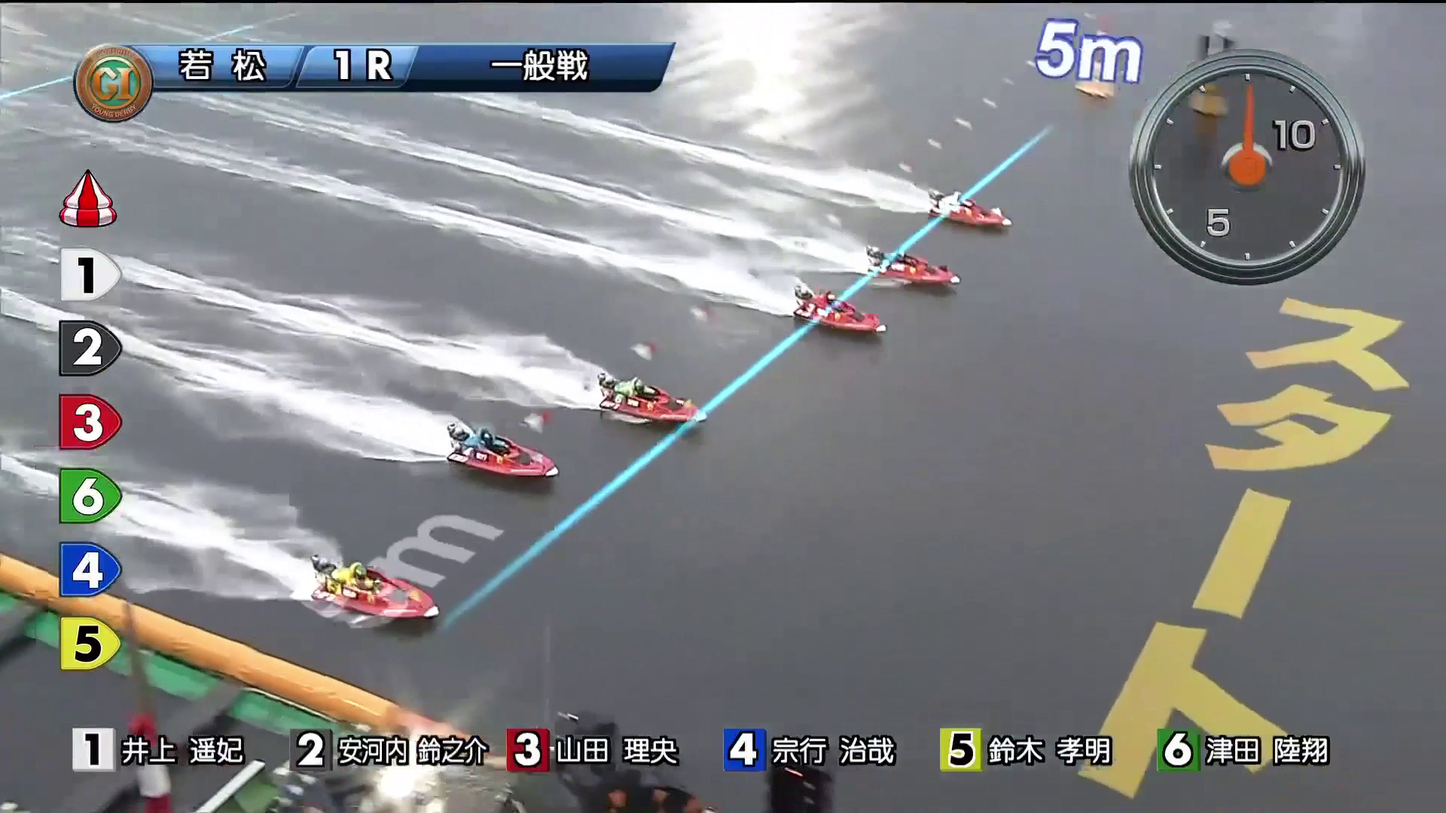１号艇: (882, 194, 957, 241)
２号艇: (875, 251, 937, 289)
３号艇: (806, 293, 861, 334)
４号艇: (630, 379, 694, 422)
５号艇: (496, 453, 565, 491)
６号艇: (407, 595, 473, 641)
